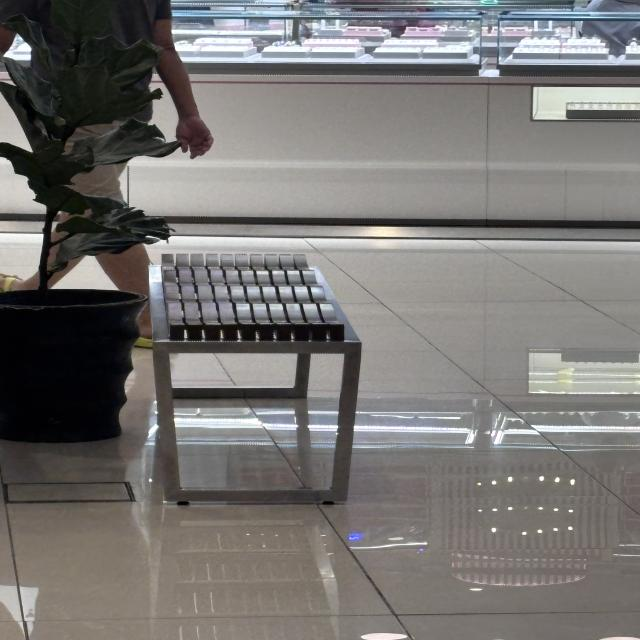Chair: (136, 242, 377, 528)
